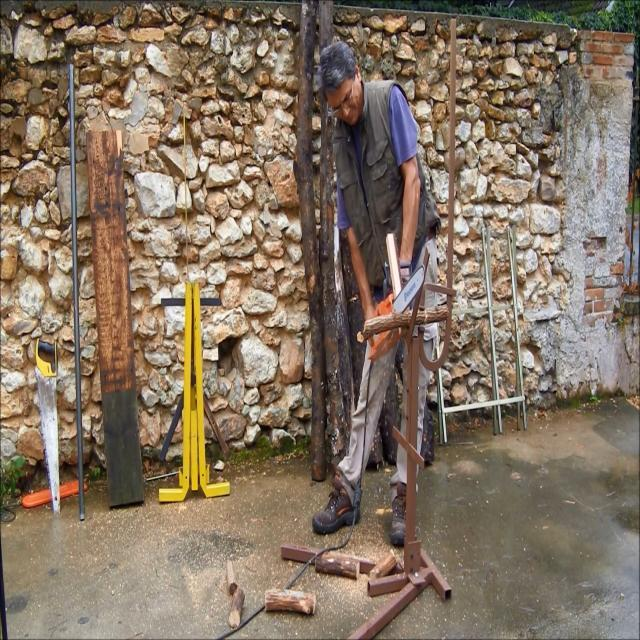Chainsaw: (350, 231, 427, 373)
